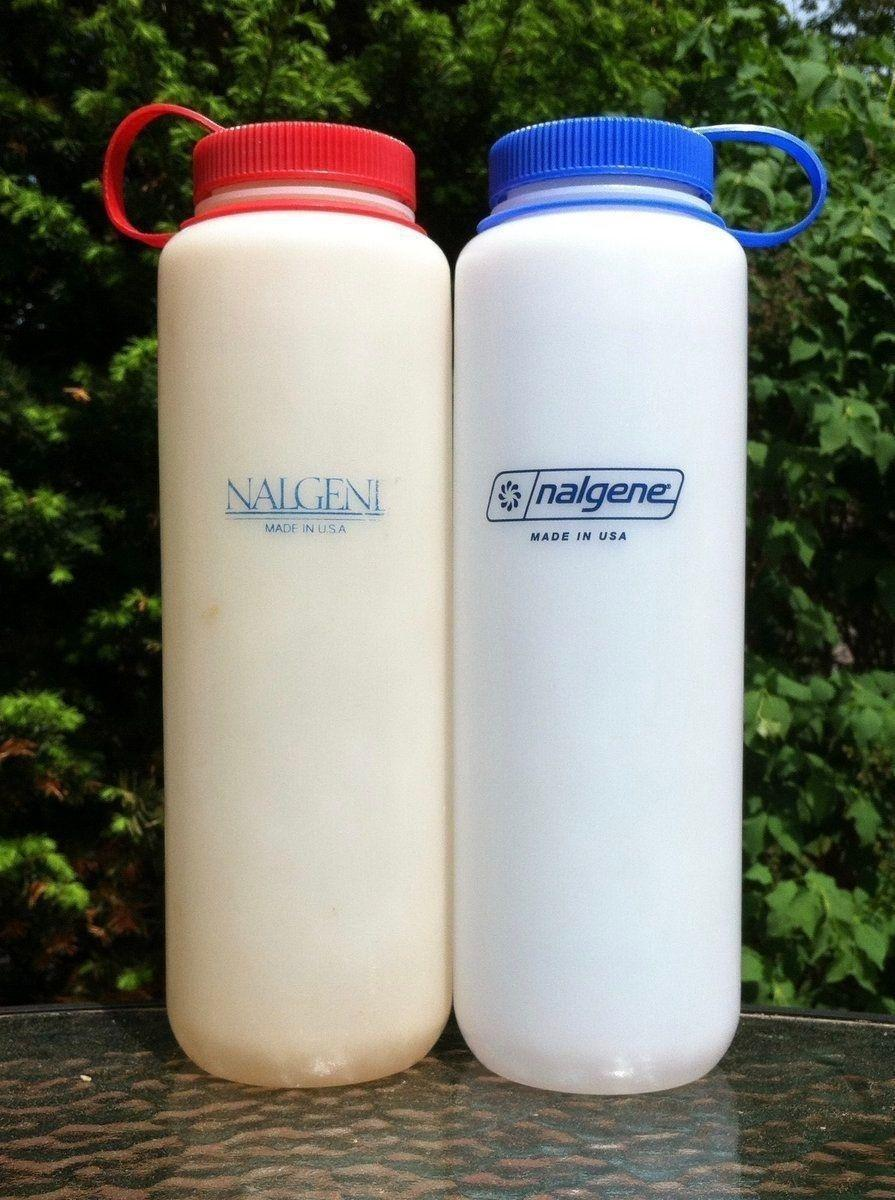gym bottle: (449, 114, 825, 1099), (96, 100, 453, 1095)
